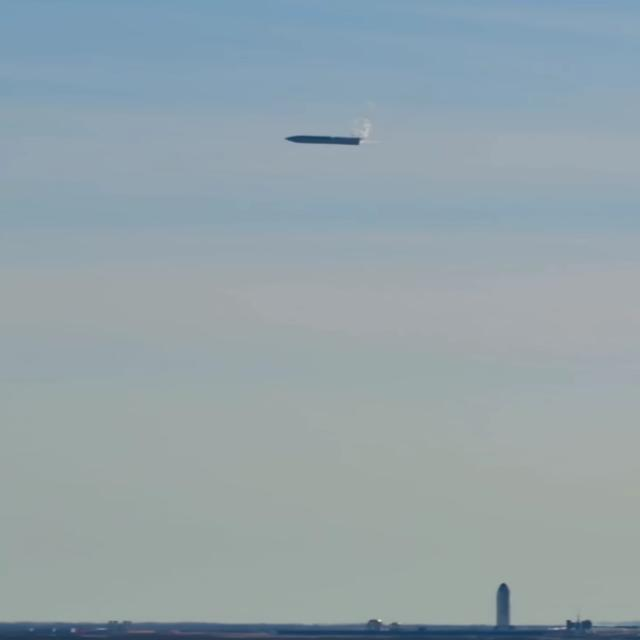Missile: (282, 130, 377, 146), (491, 582, 515, 624)
